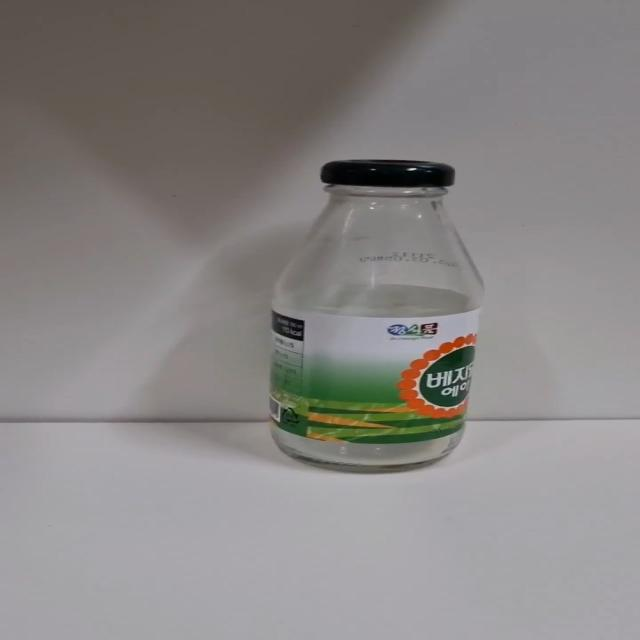Glass: (266, 155, 482, 473)
